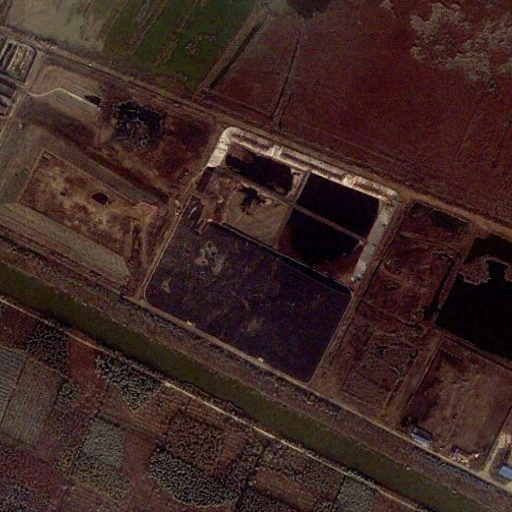lf: (146, 128, 397, 391)
